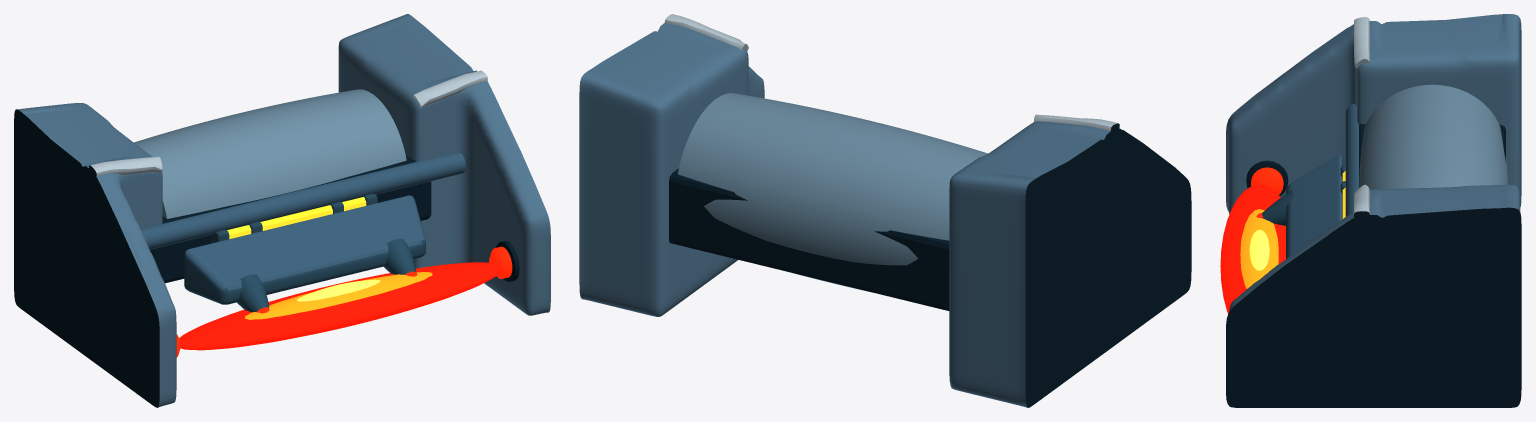
Rendered from arm_bridge_129.glb.
3 renders of one model, left to right at view 1: azimuth 30°, elevation 25°; view 2: azimuth 150°, elevation 25°; view 3: azimuth 270°, elevation 25°, orthographic. The views are drawn at different scales.
Visible parts, largest first — view 1: housing1.001, housing-1.001, saddle.001, lip.001, beam0.001, ledge.001, core.001, beam1.001, vent.001, crease-1.001, crease1.001, fang-1.001 (+3 smaller); view 2: housing1.001, saddle.001, housing-1.001, core.001, crease-1.001, crease1.001; view 3: housing-1.001, housing1.001, saddle.001, lip.001, beam0.001, beam1.001, ledge.001, lamp1.001, crease1.001, beam2.001, fang-1.001, crease-1.001 (+1 smaller).
Boxes of the visible parts, box(x1,y1,x2,y2) form: housing1.001: box(14, 103, 176, 407); housing-1.001: box(338, 14, 550, 315); saddle.001: box(134, 89, 406, 218); lip.001: box(184, 195, 425, 304); beam0.001: box(179, 262, 502, 350); ledge.001: box(141, 153, 465, 249); core.001: box(150, 155, 431, 283); beam1.001: box(245, 272, 432, 319); vent.001: box(227, 197, 366, 238); crease-1.001: box(412, 70, 487, 108); crease1.001: box(88, 157, 162, 179); fang-1.001: box(237, 274, 269, 312); housing1.001: box(949, 121, 1191, 407); saddle.001: box(678, 93, 987, 291); housing-1.001: box(579, 23, 764, 316); core.001: box(669, 168, 949, 310); crease-1.001: box(664, 14, 748, 51); crease1.001: box(1034, 114, 1119, 136); housing-1.001: box(1226, 184, 1521, 407); housing1.001: box(1226, 14, 1521, 213); saddle.001: box(1359, 84, 1508, 189); lip.001: box(1286, 155, 1342, 258); beam0.001: box(1220, 184, 1285, 313); beam1.001: box(1240, 209, 1278, 288); ledge.001: box(1345, 103, 1358, 216); lamp1.001: box(1246, 160, 1288, 196); crease1.001: box(1354, 17, 1370, 68); beam2.001: box(1249, 229, 1269, 270); fang-1.001: box(1262, 190, 1293, 225); crease-1.001: box(1353, 184, 1369, 221).
Bounding box in the file's own units: 24 × 11.56 × 15.76.
